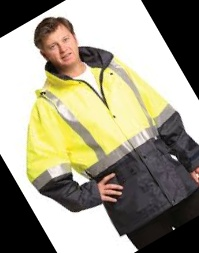NoHardhat: (37, 15, 138, 158)
